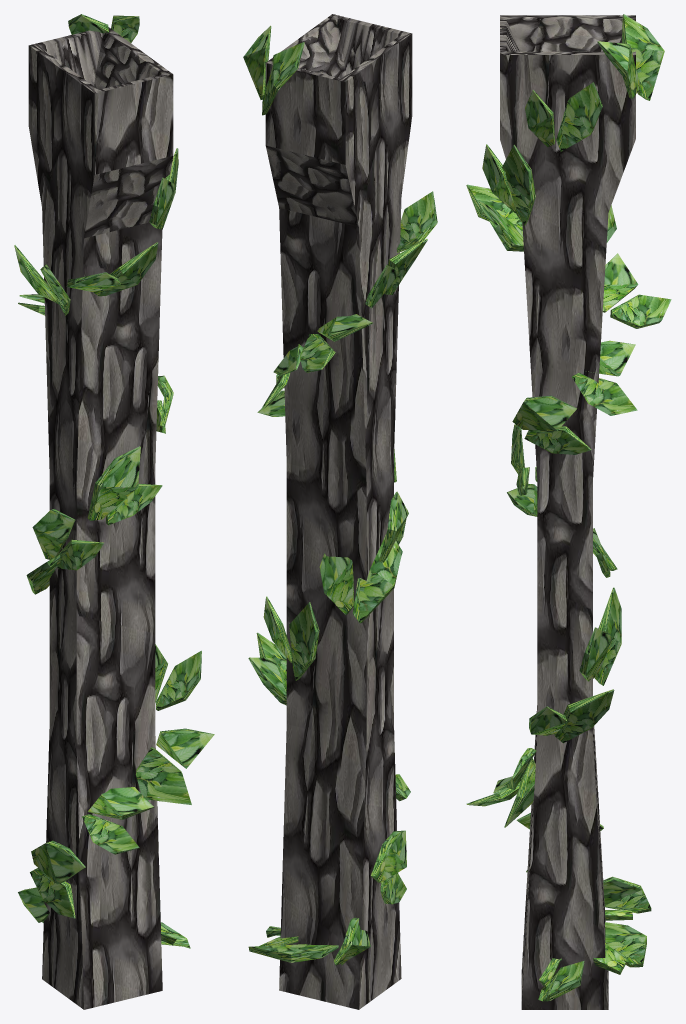
Rendered from leavesColumn.fbx.
3 views of the same model, side by side, from view 1: azimuth 30°, elevation 25°; view 2: azimuth 150°, elevation 25°; view 3: azimuth 270°, elevation 25° (orthographic). The views are drawn at different scales.
Parts seen in each view (by area): view 1: Stone, Leaves; view 2: Stone, Leaves; view 3: Stone, Leaves.
Boxes of the visible parts, x1,y1,x2,y2 form: Stone: [28, 27, 173, 1009]; Leaves: [14, 14, 214, 948]; Stone: [265, 14, 412, 1009]; Leaves: [243, 25, 437, 965]; Stone: [500, 15, 635, 1009]; Leaves: [466, 14, 671, 1001].
Bounding box in the file's own units: 103 × 571 × 108.
